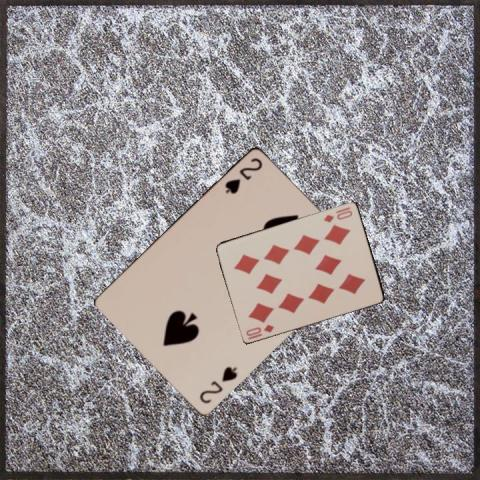10d: (321, 203, 354, 224), (243, 321, 276, 341)
2s: (196, 362, 239, 404), (221, 154, 264, 195)
